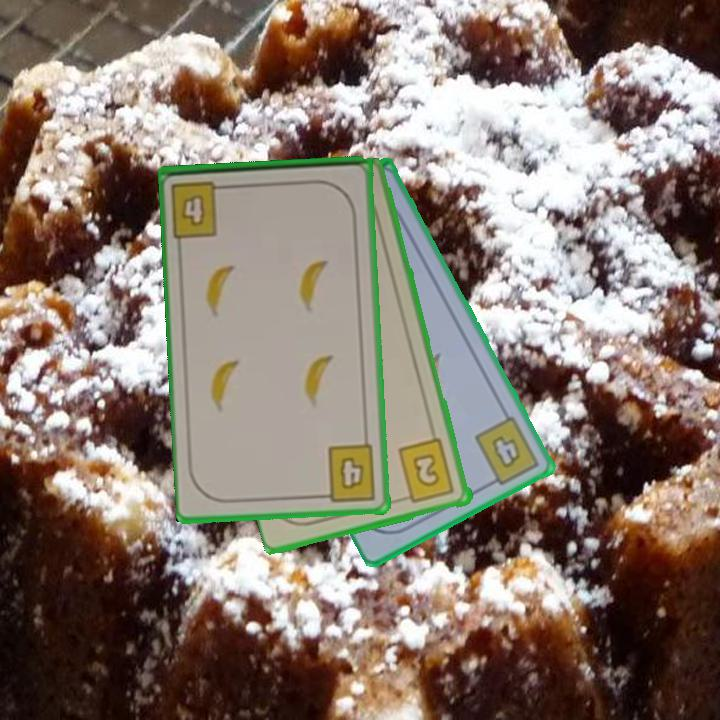2b: (395, 436, 458, 506)
4b: (471, 412, 543, 491), (168, 177, 233, 240), (316, 441, 379, 504)
